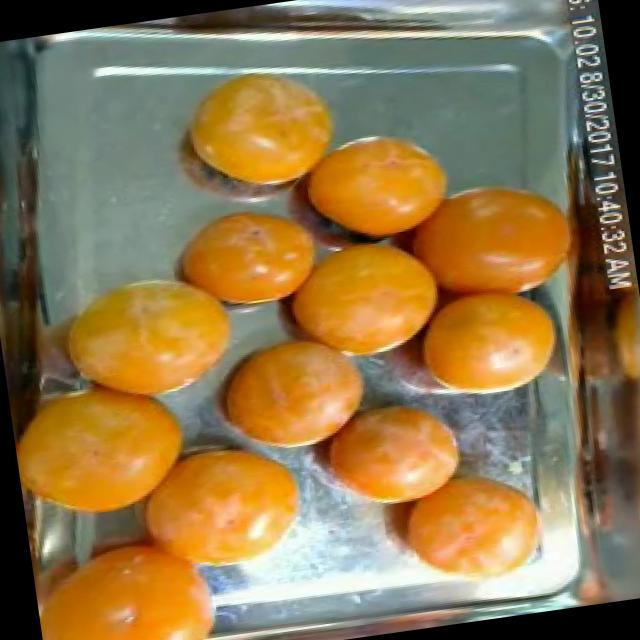Fruit: (28, 247, 268, 428), (5, 350, 217, 539), (113, 426, 335, 594), (386, 158, 598, 324), (172, 308, 394, 466), (279, 375, 492, 533), (158, 48, 358, 206), (365, 458, 564, 602), (382, 270, 580, 404), (284, 112, 468, 256), (149, 186, 337, 322)
